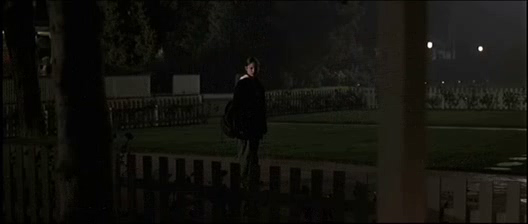els: (1, 1, 528, 224)
face: (246, 62, 258, 75)
person: (232, 60, 266, 190)
